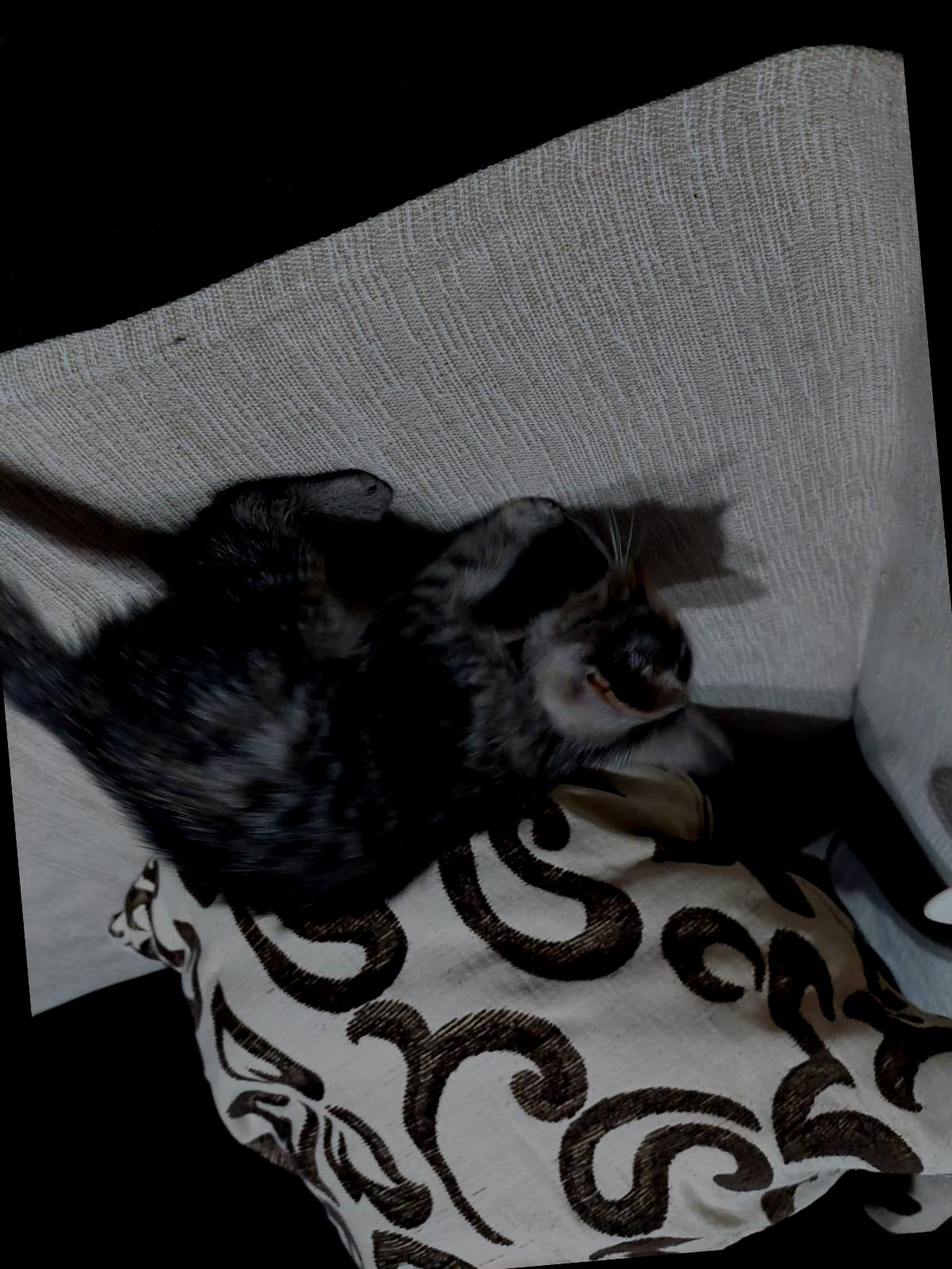macka: (0, 443, 749, 947)
